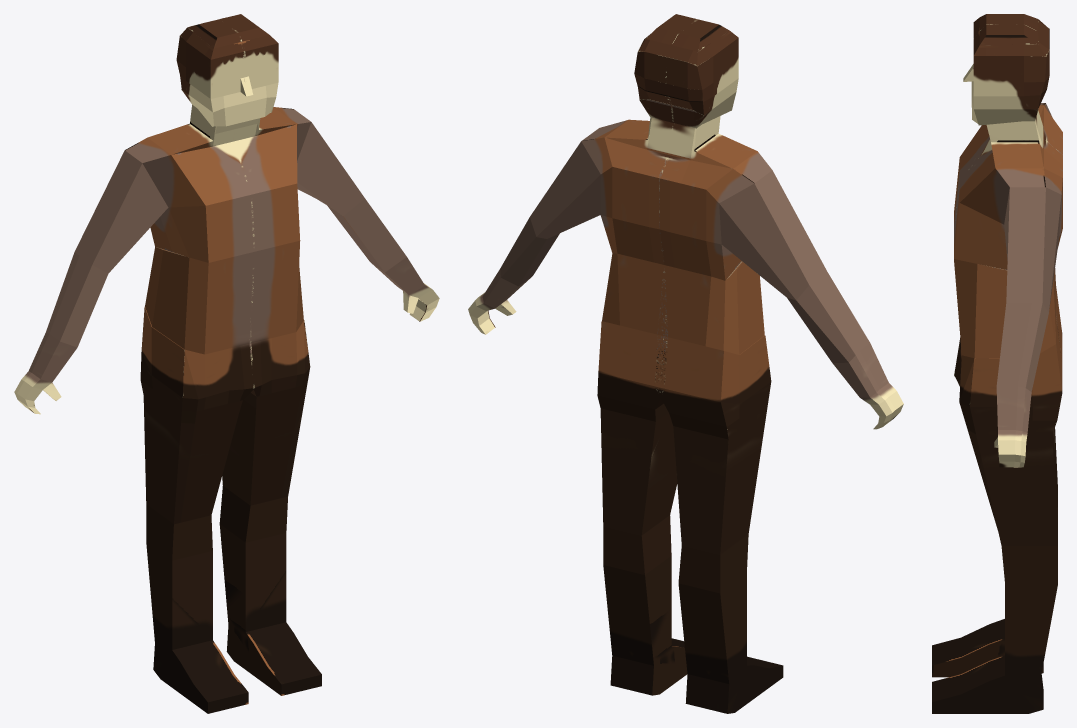
File: zhigga_basic_standing.gltf
3 renders of one model, left to right at view 1: azimuth 30°, elevation 25°; view 2: azimuth 150°, elevation 25°; view 3: azimuth 270°, elevation 25°, orthographic. The views are drawn at different scales.
Parts seen in each view (by area): view 1: Zhigga_standing; view 2: Zhigga_standing; view 3: Zhigga_standing.
Boxes of the visible parts, bbox=[...] form: Zhigga_standing: bbox=[14, 14, 439, 713]; Zhigga_standing: bbox=[468, 14, 903, 713]; Zhigga_standing: bbox=[932, 14, 1062, 713].
Size of the model in its own units: 1.95 by 2.92 by 0.5232.
1 material, 1 textured.
